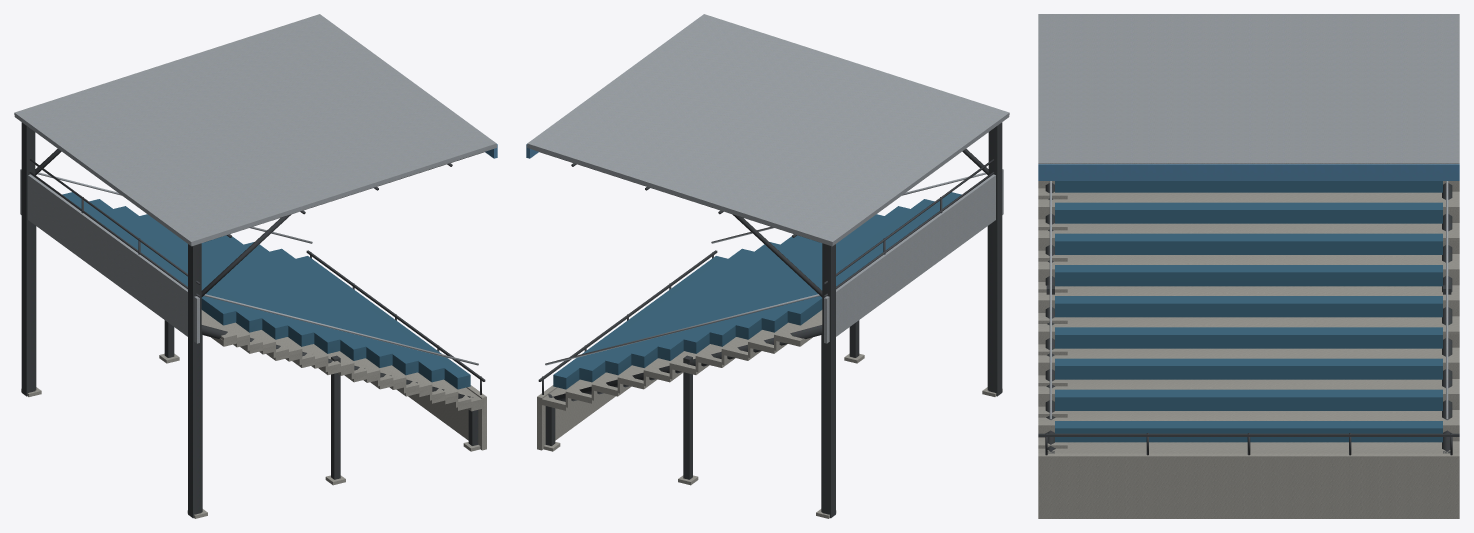
The model's file is grandstand-roof_far.glb.
3 views of the same model, side by side, from view 1: azimuth 30°, elevation 25°; view 2: azimuth 150°, elevation 25°; view 3: azimuth 270°, elevation 25° (orthographic). The views are drawn at different scales.
Parts seen in each view (by area): view 1: galvanised, seat, dark-steel, concrete; view 2: galvanised, seat, dark-steel, concrete; view 3: seat, concrete, galvanised, paint-band, dark-steel.
Boxes of the visible parts, <box> form: galvanised: <box>14,14,496,365</box>; seat: <box>62,192,470,389</box>; dark-steel: <box>21,122,485,518</box>; concrete: <box>21,310,486,518</box>; galvanised: <box>527,14,1009,365</box>; seat: <box>553,192,961,389</box>; dark-steel: <box>538,122,1002,518</box>; concrete: <box>537,310,1002,518</box>; seat: <box>1055,181,1442,442</box>; concrete: <box>1038,181,1459,518</box>; galvanised: <box>1038,14,1459,420</box>; paint-band: <box>1038,164,1459,180</box>; dark-steel: <box>1038,183,1459,455</box>.
Bounding box in the file's own units: 10 × 9.46 × 10.
Materials: 5 (4 with a texture image).
